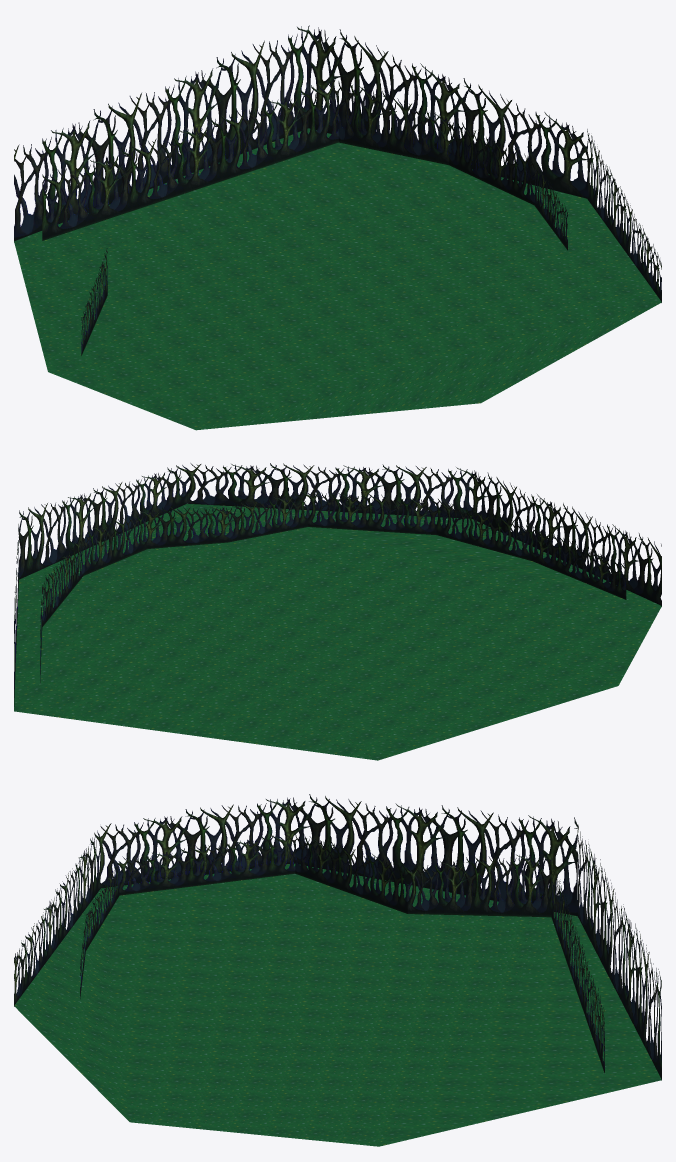
File: Gds_LuigisMansion_perm.dae
3 renders of one model, top to bottom at view 1: azimuth 30°, elevation 25°; view 2: azimuth 150°, elevation 25°; view 3: azimuth 270°, elevation 25°, orthographic. The views are drawn at different scales.
Visible parts, largest first — view 1: Gds_LuigisMansion_perm (×2); view 2: Gds_LuigisMansion_perm (×2); view 3: Gds_LuigisMansion_perm (×2).
Part boxes in pixels (bbox=[...]): Gds_LuigisMansion_perm (×2): bbox=[14, 25, 661, 430]; Gds_LuigisMansion_perm (×2): bbox=[14, 463, 661, 760]; Gds_LuigisMansion_perm (×2): bbox=[14, 794, 661, 1146].
Size of the model in its own units: 10394 by 1964 by 10050.
2 materials, 2 textured.
